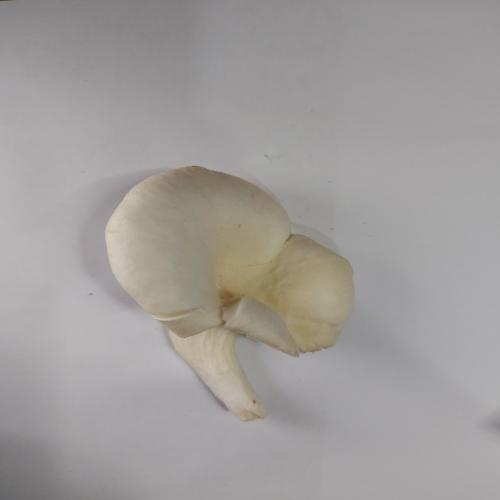Oyster Mushroom: (103, 164, 356, 422)
